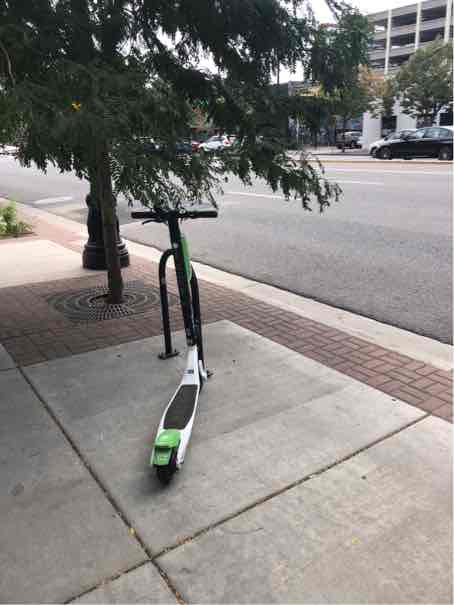scooter: (122, 203, 227, 484)
